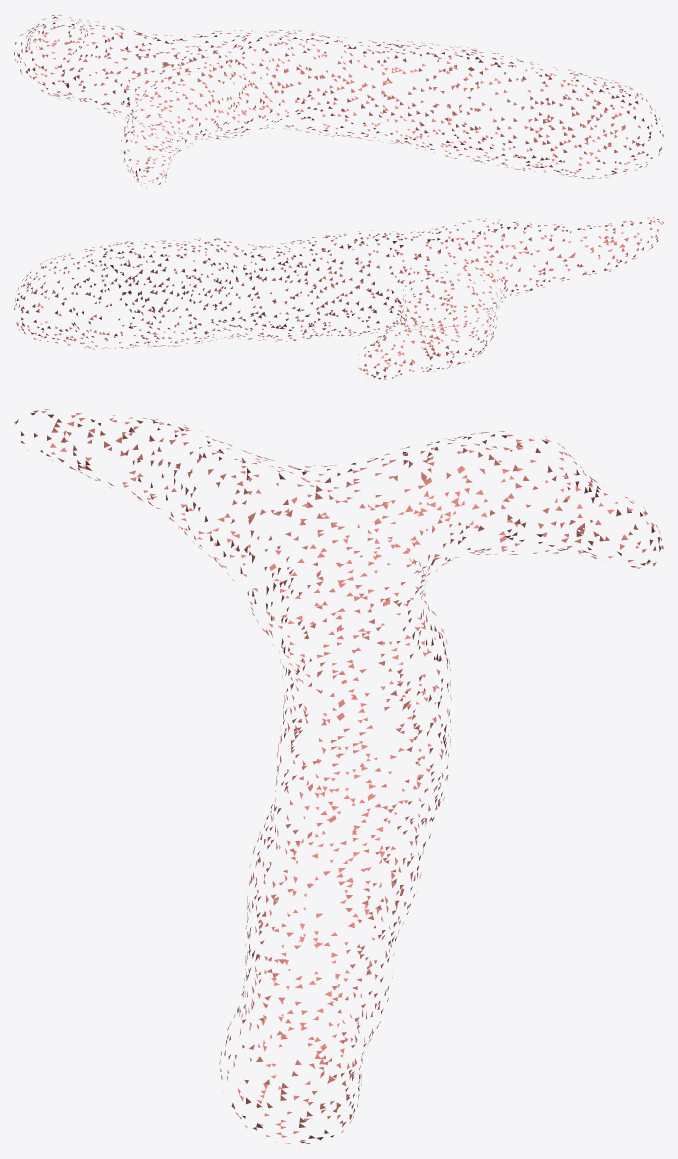
File: morph_001.glb
The picture shows the model from 3 angles, top to bottom: view 1: azimuth 30°, elevation 25°; view 2: azimuth 150°, elevation 25°; view 3: azimuth 270°, elevation 25°; orthographic projection. The views are drawn at different scales.
Bounding box in the file's own units: 107 × 37.6 × 65.51.
